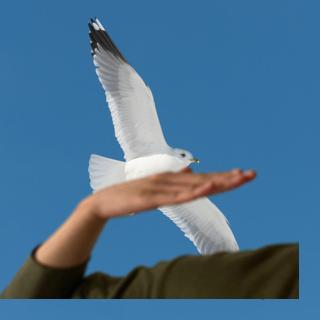WAIT: (87, 163, 258, 221)
